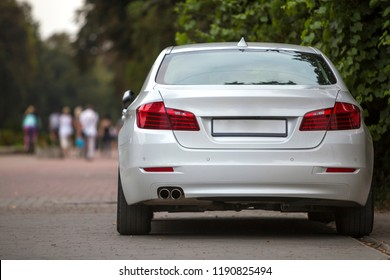car: (116, 40, 376, 237)
